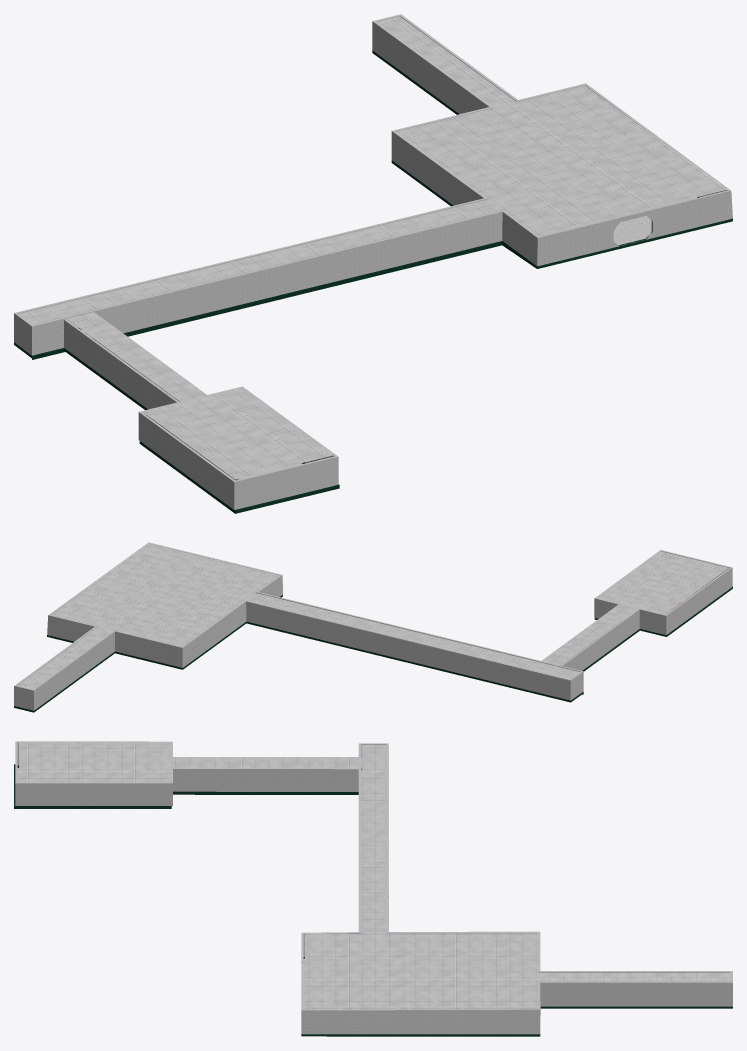
The model's file is level1.fbx.
The picture shows the model from 3 angles, top to bottom: view 1: azimuth 30°, elevation 25°; view 2: azimuth 150°, elevation 25°; view 3: azimuth 270°, elevation 25°; orthographic projection. The views are drawn at different scales.
Parts seen in each view (by area): view 1: Plane002, Line001, Line002, Object002, Plane001, Object003; view 2: Plane002, Line001, Line002, Object002, Object003; view 3: Plane002, Line001, Line002, Object002, Object003.
Part boxes in pixels (x1,y1,x2,y2): Plane002: (19, 16, 728, 479); Line001: (14, 14, 732, 355); Line002: (64, 312, 338, 509); Object002: (14, 50, 732, 359); Plane001: (81, 197, 696, 479); Object003: (64, 348, 339, 513); Plane002: (17, 543, 728, 689); Line001: (14, 542, 583, 710); Line002: (541, 550, 732, 670); Object002: (14, 595, 583, 712); Object003: (582, 586, 732, 671); Plane002: (19, 742, 730, 1010); Line001: (301, 743, 732, 1034); Line002: (15, 741, 358, 806); Object002: (301, 768, 732, 1036); Object003: (14, 764, 358, 808).
Bounding box in the file's own units: 5678 × 271 × 6396.
Materials: 8 (8 with a texture image).
